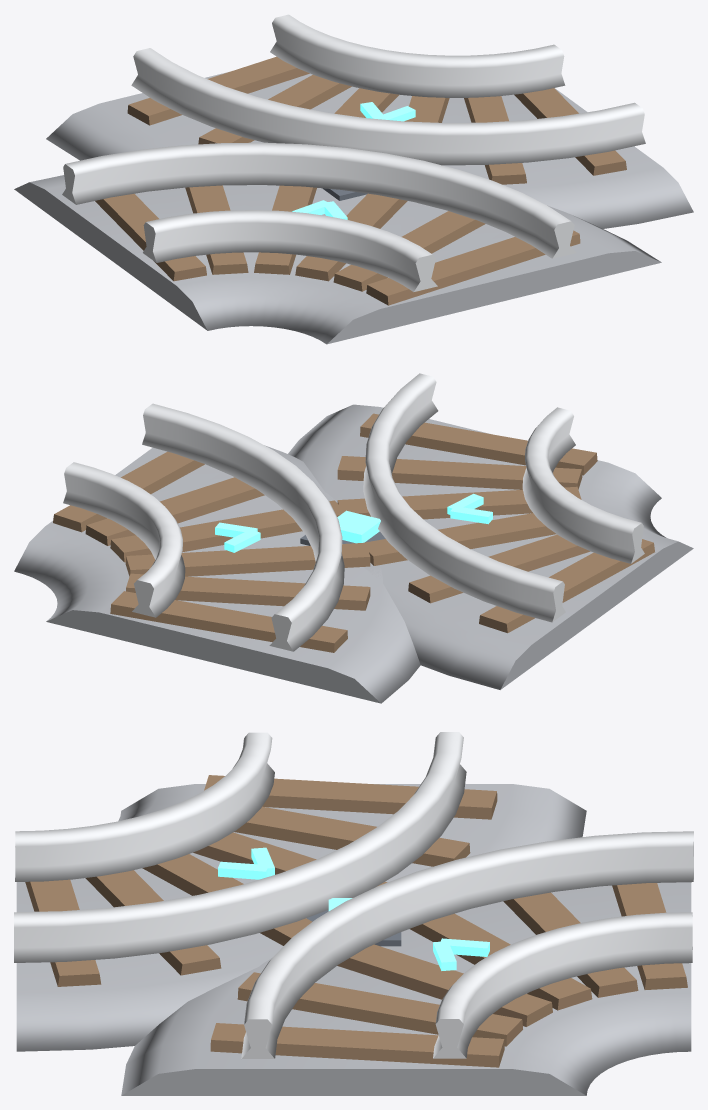
The model's file is track_switch.glb.
3 views of the same model, one above another, from view 1: azimuth 30°, elevation 25°; view 2: azimuth 150°, elevation 25°; view 3: azimuth 270°, elevation 25° (orthographic). The views are drawn at different scales.
Visible parts, largest first — view 1: TrackSwitch; view 2: TrackSwitch; view 3: TrackSwitch.
Part boxes in pixels (x1,y1,x2,y2): TrackSwitch: (14, 14, 693, 344); TrackSwitch: (14, 373, 693, 703); TrackSwitch: (14, 732, 693, 1095).
Bounding box in the file's own units: 1.01 × 0.127 × 1.01.
